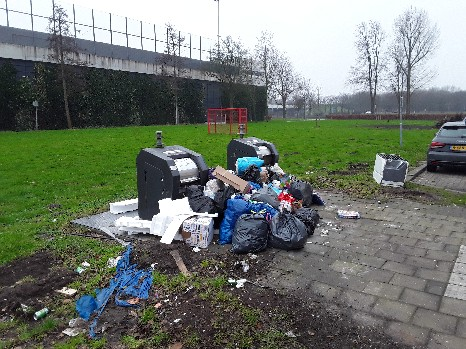Container: (145, 141, 200, 195), (234, 131, 270, 164)
Rest: (206, 195, 267, 249), (152, 205, 213, 251), (278, 203, 347, 235), (264, 213, 310, 254), (258, 164, 307, 200), (232, 212, 266, 257), (214, 163, 248, 197), (224, 155, 264, 179), (287, 179, 320, 201)
